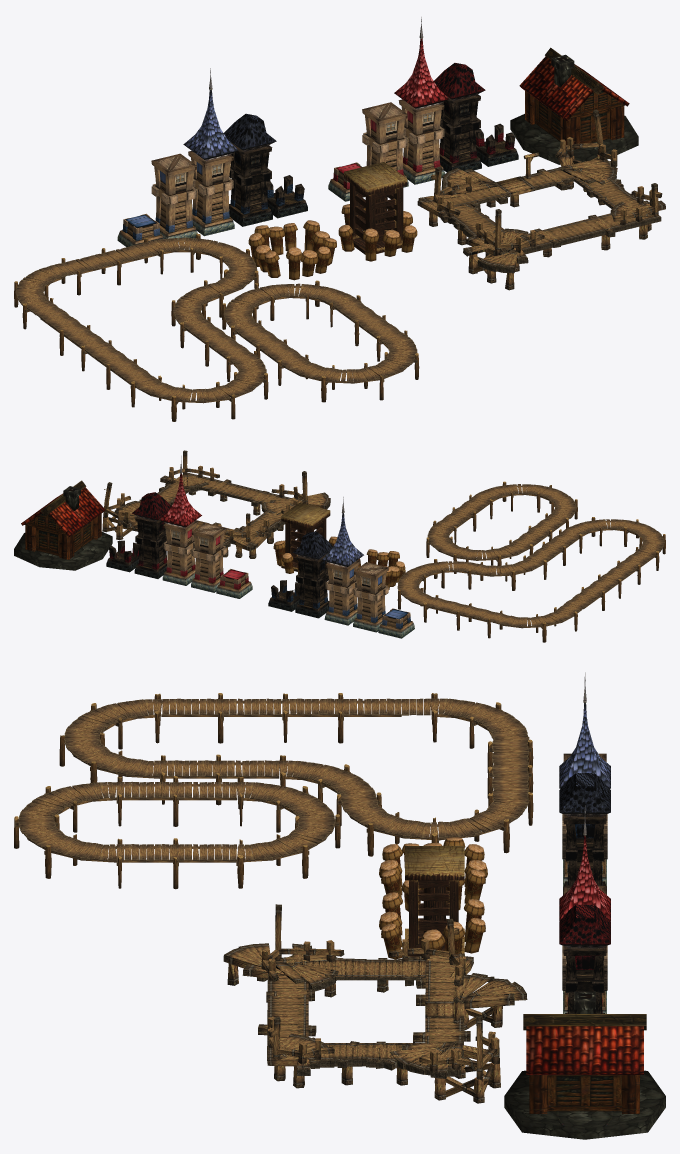
The model's file is Collection wooden_V01.FBX.
The picture shows the model from 3 angles, top to bottom: view 1: azimuth 30°, elevation 25°; view 2: azimuth 150°, elevation 25°; view 3: azimuth 270°, elevation 25°; orthographic projection. The views are drawn at different scales.
Visible parts, largest first — view 1: Wood_Street_Cylinder_set_004, wood_Street_Cylinder002, Wood_buil_001, wood_Street_Cylinder, new_blueTower001, new_redTower, blueTower04, Wooden_tower, redTower03, Object003, blueTower02, redTower02 (+5 smaller); view 2: wood_Street_Cylinder002, Wood_Street_Cylinder_set_004, Wood_buil_001, wood_Street_Cylinder, new_redTower, new_blueTower001, blueTower04, redTower03, redTower02, blueTower02, Wooden_tower, Object003 (+5 smaller); view 3: Wood_Street_Cylinder_set_004, wood_Street_Cylinder002, Wood_buil_001, wood_Street_Cylinder, Wooden_tower, blueTower04, redTower03, Object002, Object003, new_blueTower001, new_redTower.
Part boxes in pixels (x1,y1,x2,y2): Wood_Street_Cylinder_set_004: [417, 109, 665, 290]; wood_Street_Cylinder002: [14, 233, 268, 421]; Wood_buil_001: [510, 47, 638, 164]; wood_Street_Cylinder: [222, 280, 419, 402]; new_blueTower001: [183, 68, 238, 236]; new_redTower: [394, 17, 448, 184]; blueTower04: [223, 113, 276, 226]; Wooden_tower: [344, 162, 407, 254]; redTower03: [434, 63, 485, 172]; Object003: [248, 220, 336, 280]; blueTower02: [151, 153, 197, 242]; redTower02: [362, 102, 408, 187]; wood_Street_Cylinder002: [397, 517, 665, 642]; Wood_Street_Cylinder_set_004: [102, 450, 330, 558]; Wood_buil_001: [14, 480, 112, 570]; wood_Street_Cylinder: [426, 481, 577, 573]; new_redTower: [160, 456, 201, 585]; new_blueTower001: [322, 497, 363, 625]; blueTower04: [292, 531, 332, 618]; redTower03: [132, 492, 171, 578]; redTower02: [191, 522, 226, 592]; blueTower02: [353, 562, 388, 632]; Wooden_tower: [281, 503, 330, 571]; Object003: [358, 549, 405, 589]; Wood_Street_Cylinder_set_004: [223, 904, 527, 1103]; wood_Street_Cylinder002: [59, 693, 533, 856]; Wood_buil_001: [504, 991, 665, 1139]; wood_Street_Cylinder: [14, 776, 340, 889]; Wooden_tower: [405, 846, 464, 956]; blueTower04: [559, 773, 610, 894]; redTower03: [559, 904, 610, 1013]; Object002: [379, 892, 485, 959]; Object003: [379, 837, 487, 911]; new_blueTower001: [559, 672, 610, 887]; new_redTower: [559, 805, 610, 1013].
Bounding box in the file's own units: 1141 × 269 × 755.
